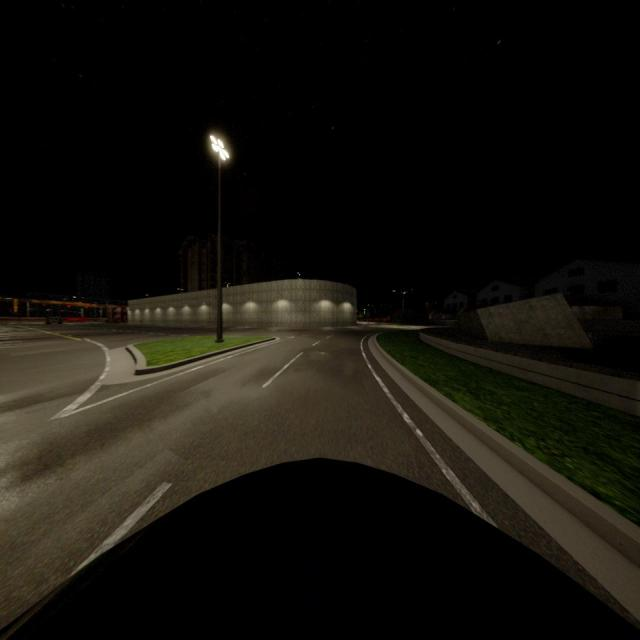Vehicle: (0, 456, 640, 638)
